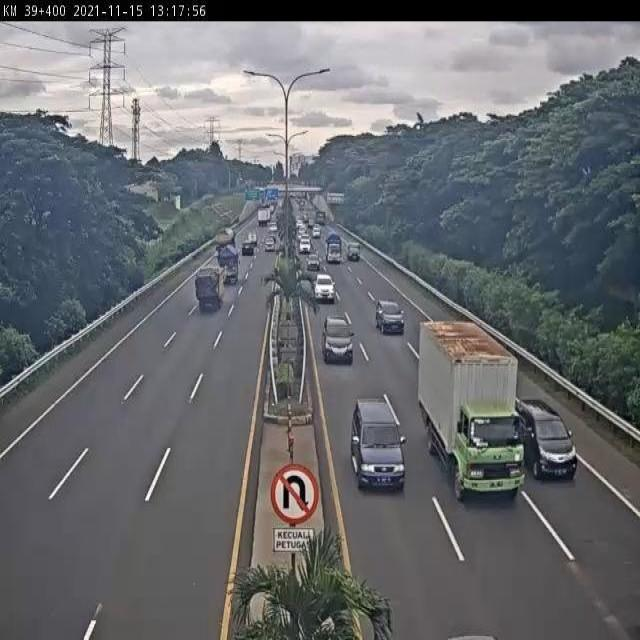Car: (349, 396, 408, 494), (515, 398, 578, 479), (322, 314, 354, 364), (374, 298, 404, 334), (313, 273, 336, 303), (306, 252, 321, 272), (347, 242, 361, 262), (299, 236, 311, 254), (264, 235, 276, 252)
Truck: (417, 320, 527, 500), (193, 266, 224, 312), (217, 244, 241, 287), (324, 231, 342, 266)
